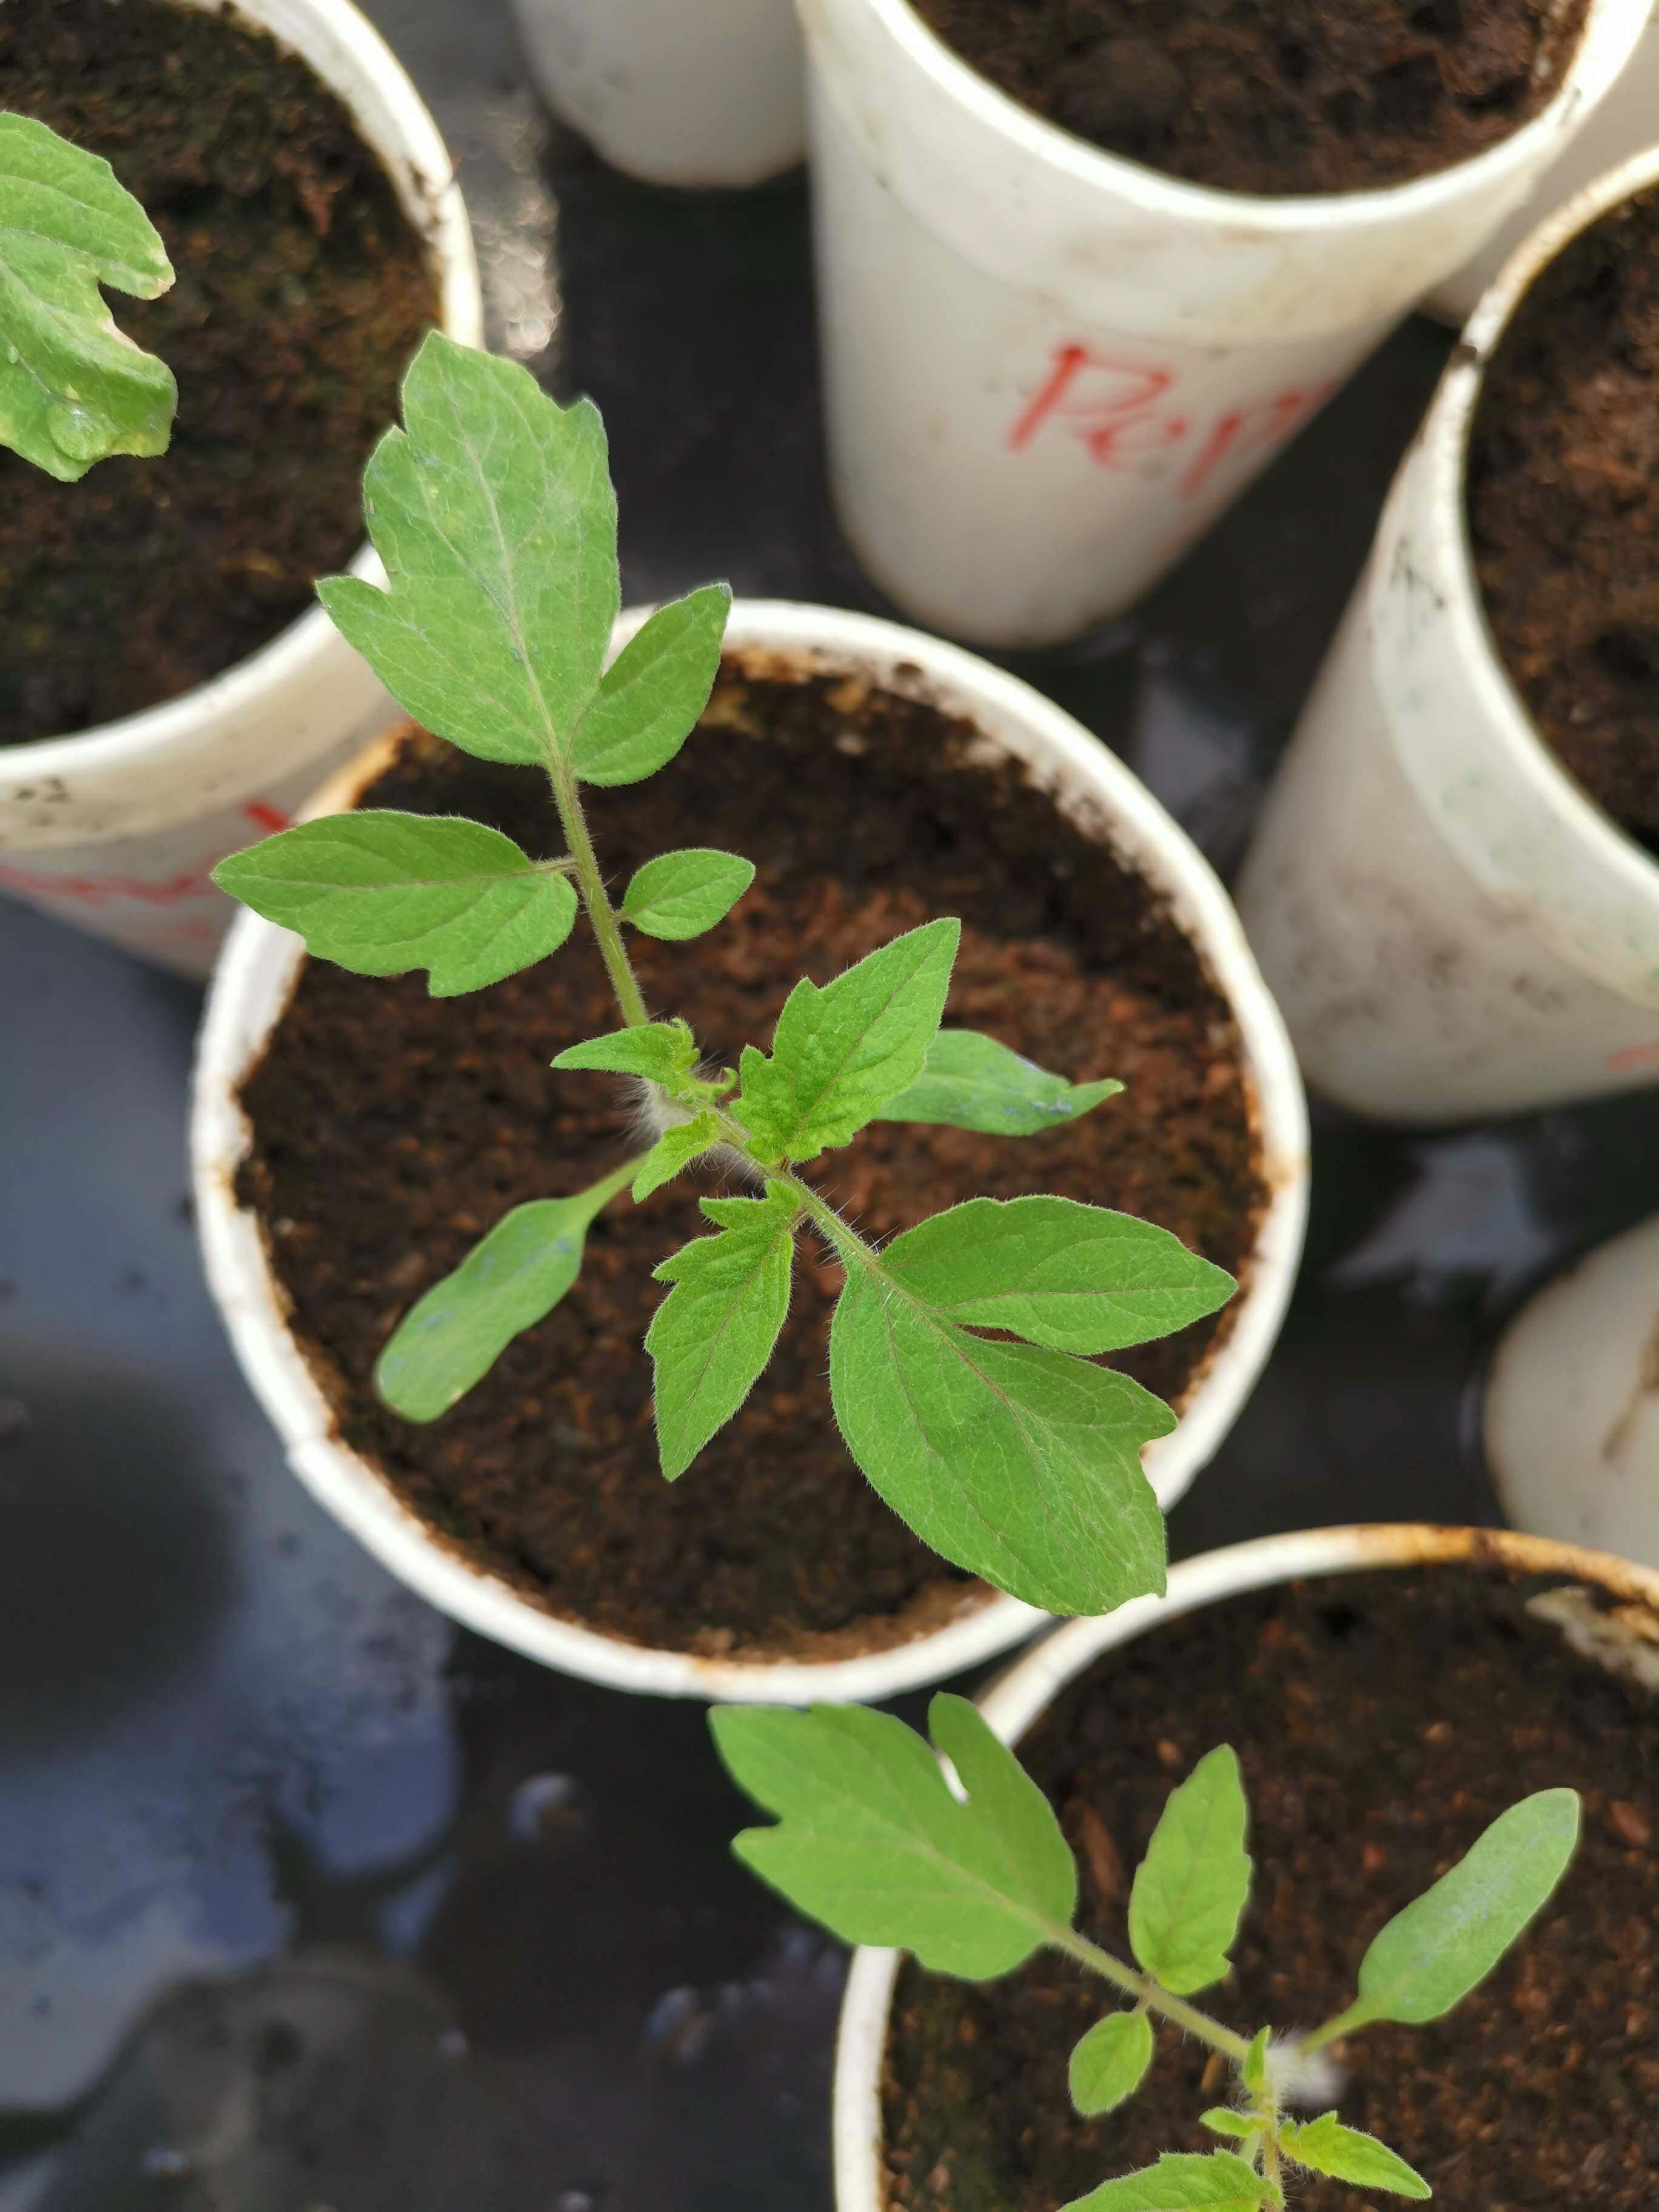Rugose leaf: (0, 113, 176, 481)
